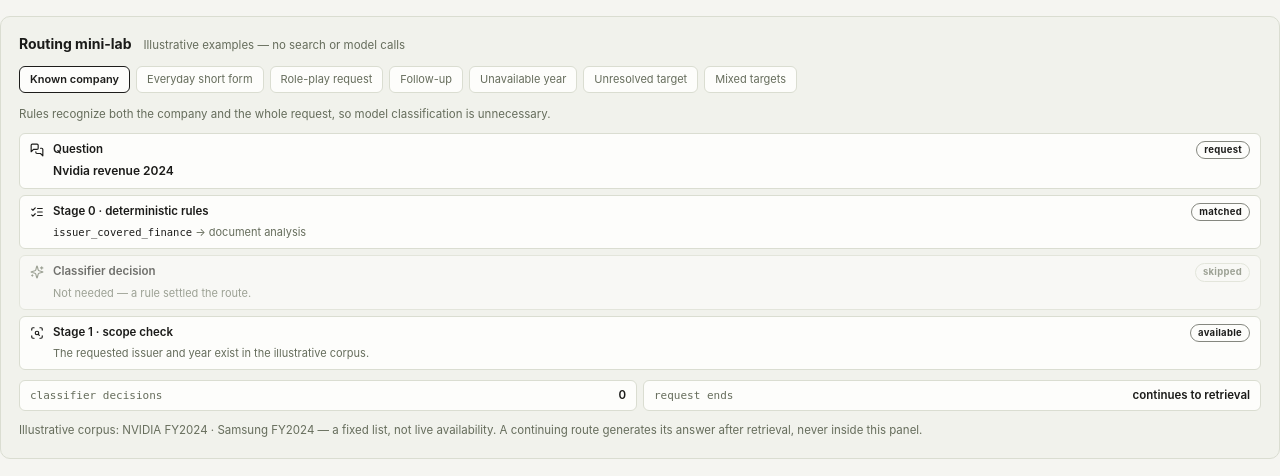
Test: keeps Mixed targets pending on the classifier without a fabricated scope
Click the button "Mixed targets": (751, 80) [704, 66, 797, 93]
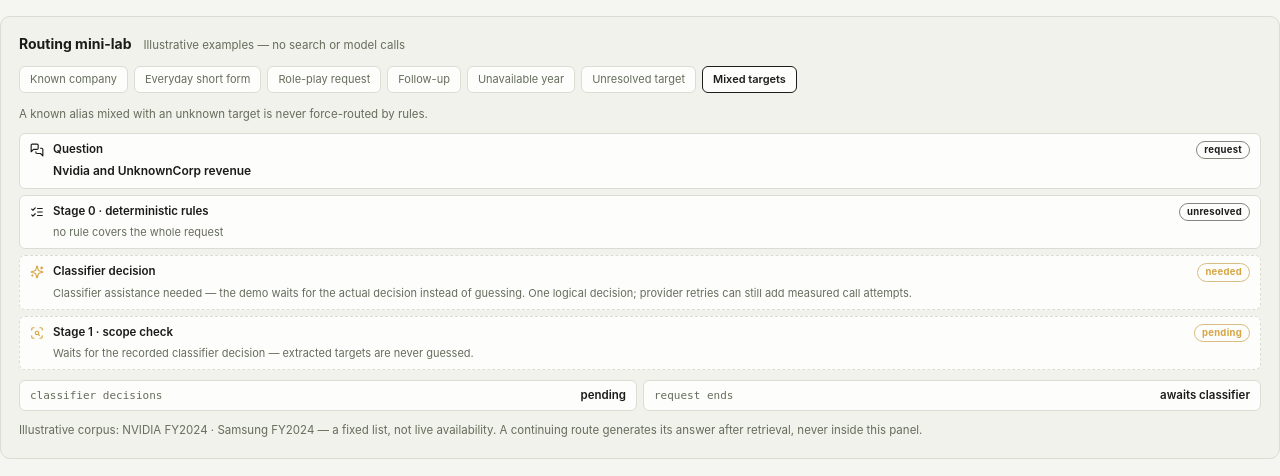
Expected: the text "Nvidia and UnknownCorp revenue" is shown, [53, 163, 251, 178]
Expected: the text "Classifier assistance needed" is shown, [53, 286, 912, 300]
Expected: the text "pending" in the row of "classifier decisions" is shown, [581, 388, 626, 402]
